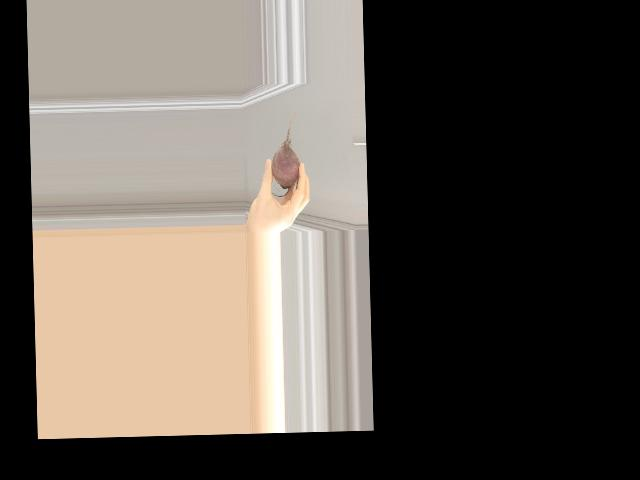beet: (269, 108, 299, 196)
